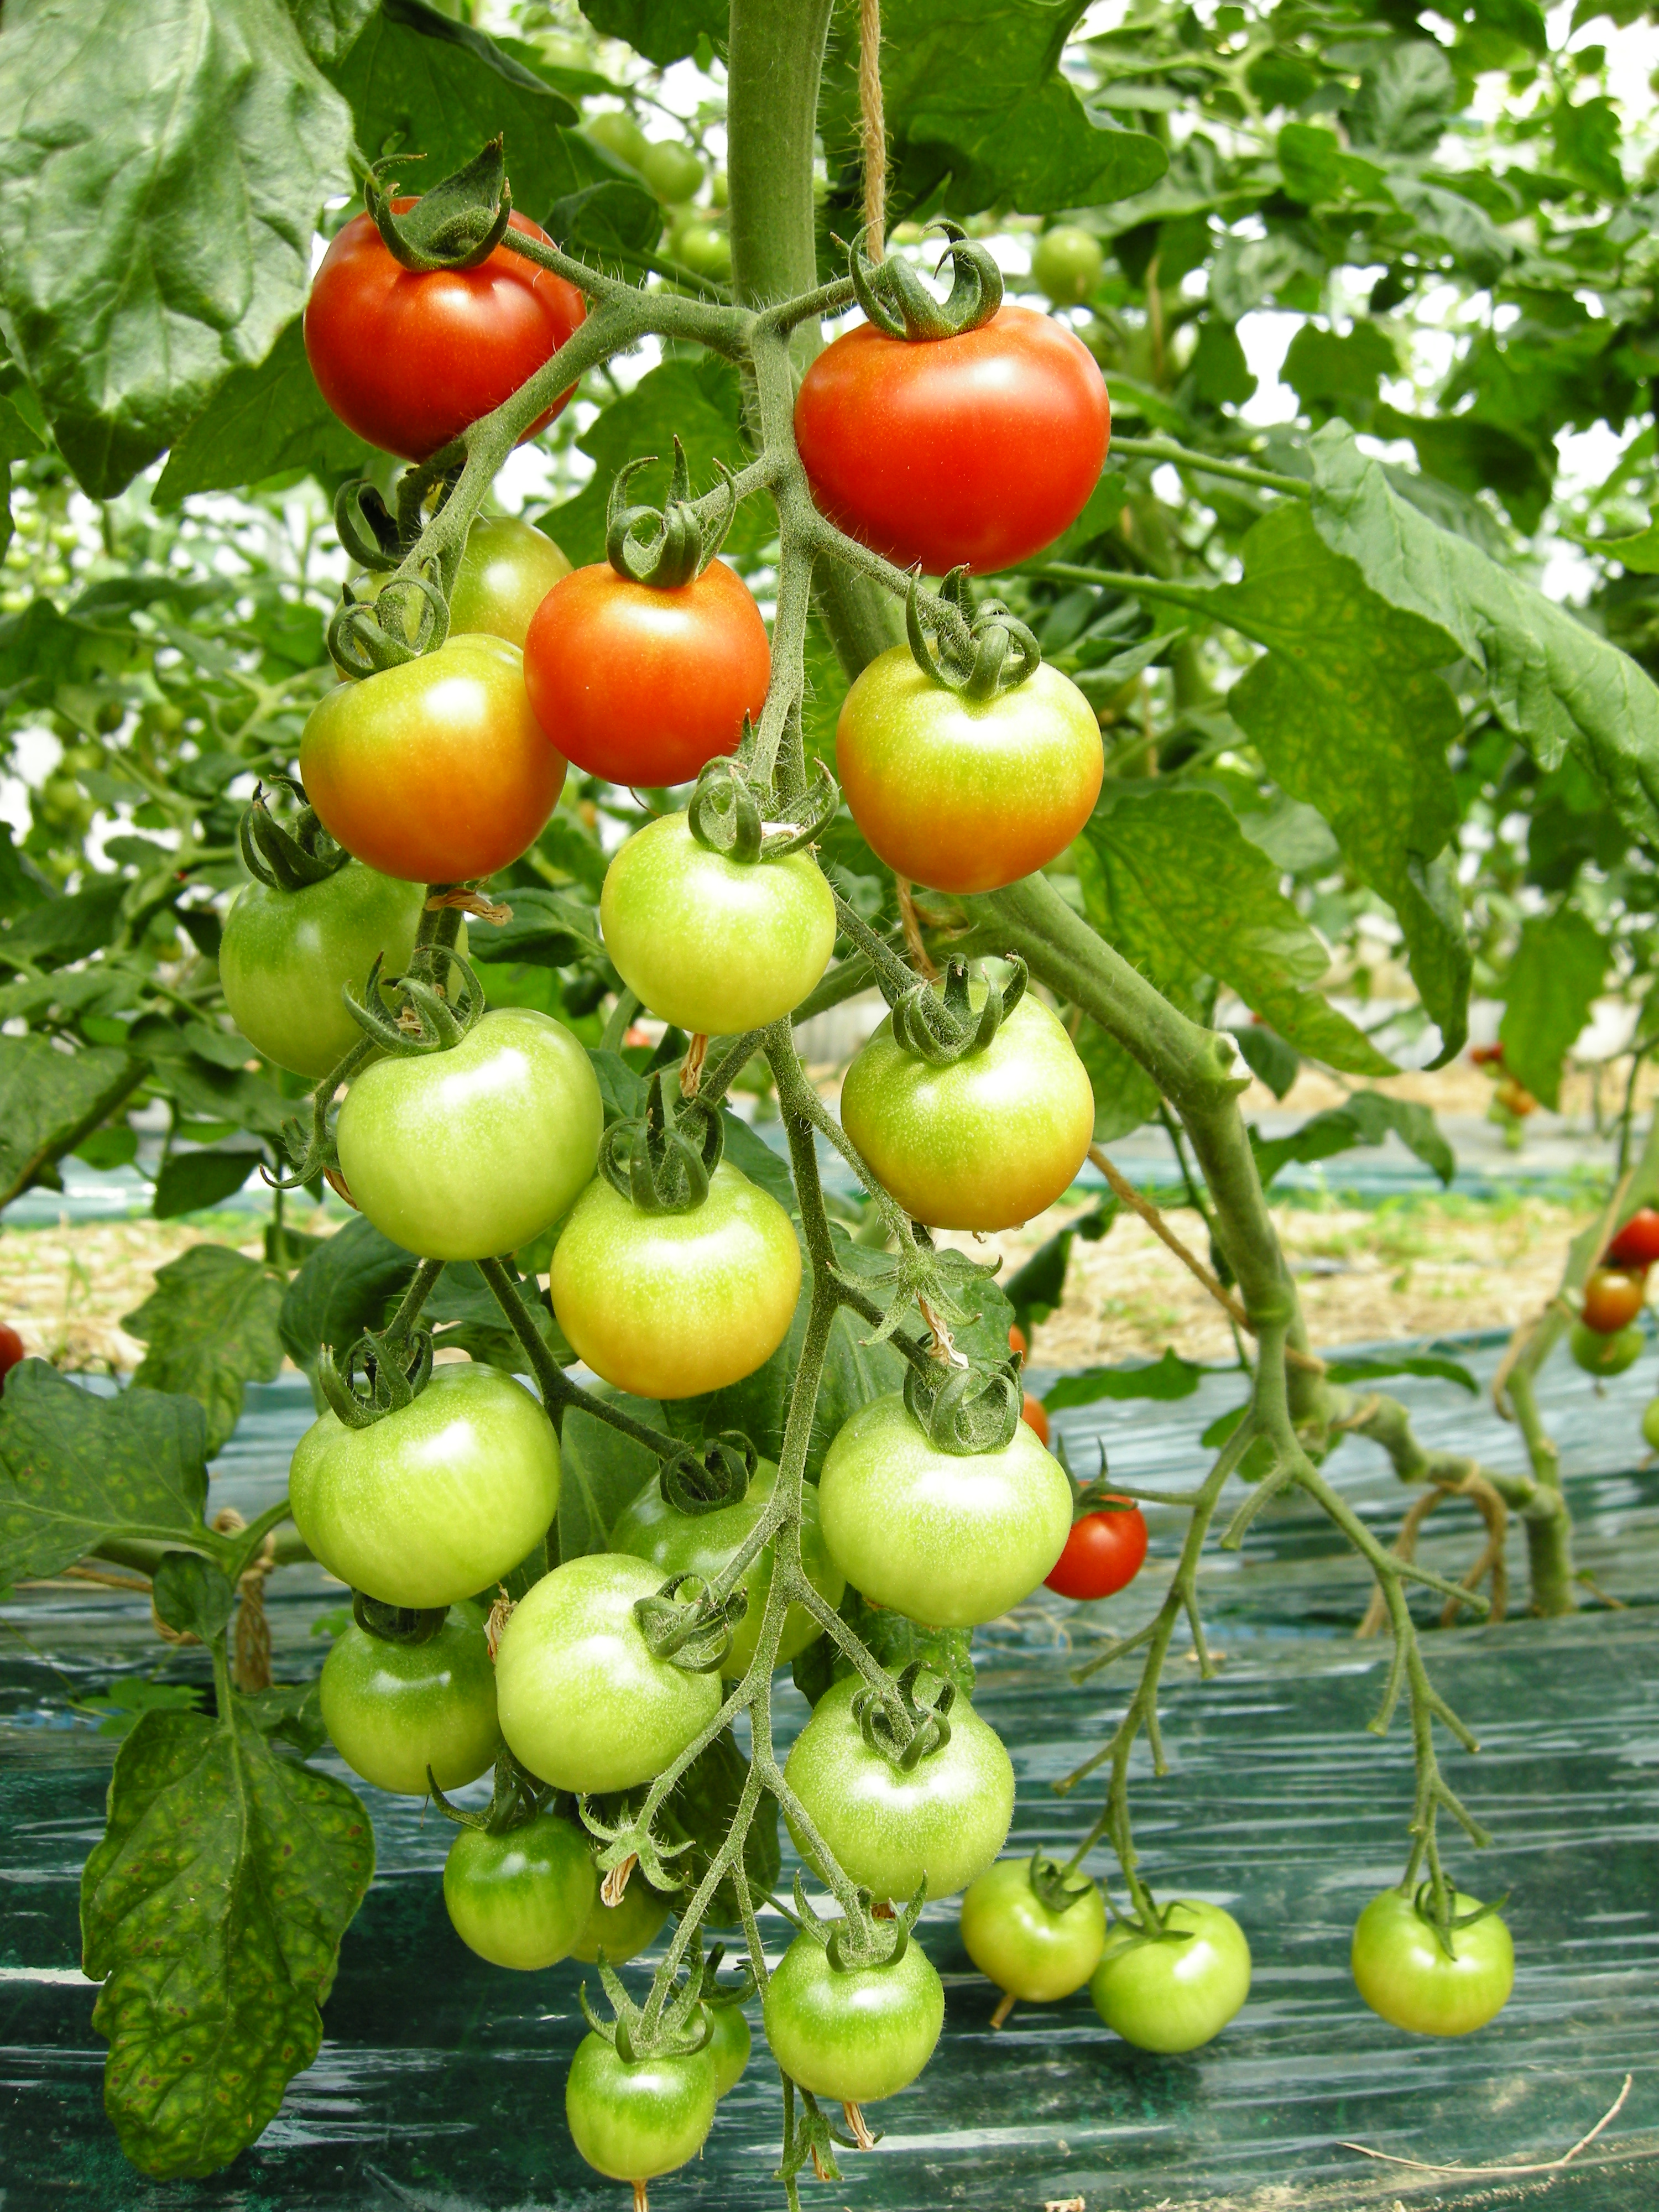tomato: (796, 270, 1114, 587), (300, 568, 584, 888), (347, 1001, 631, 1268), (854, 629, 1096, 909), (338, 1343, 565, 1609), (288, 209, 518, 470), (782, 1649, 1011, 1909), (486, 1540, 718, 1792), (863, 981, 1077, 1240), (308, 1557, 535, 1778), (216, 841, 404, 1096)
